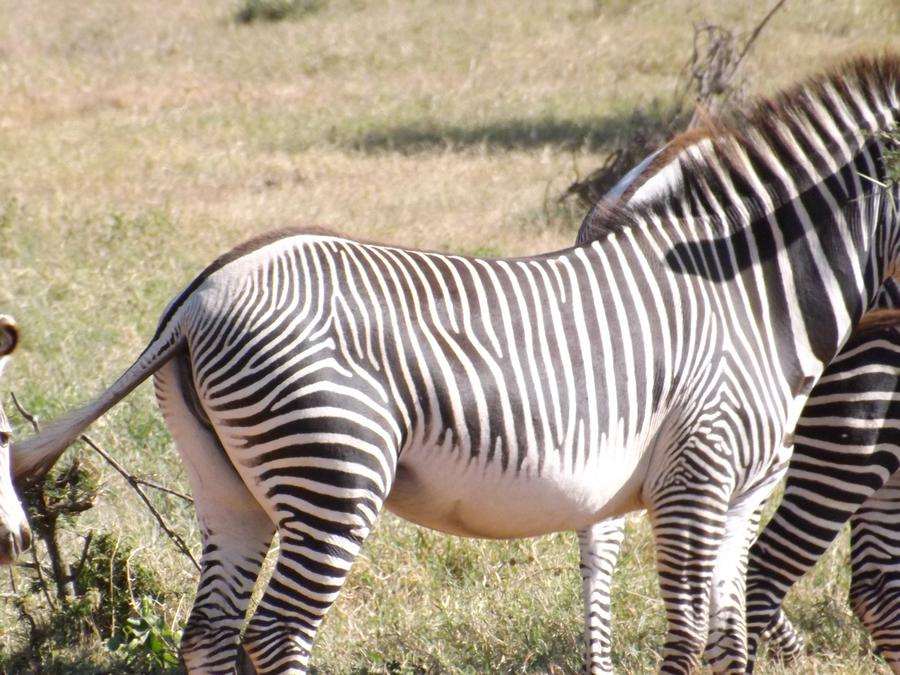zebra_grevys: (142, 202, 739, 495)
